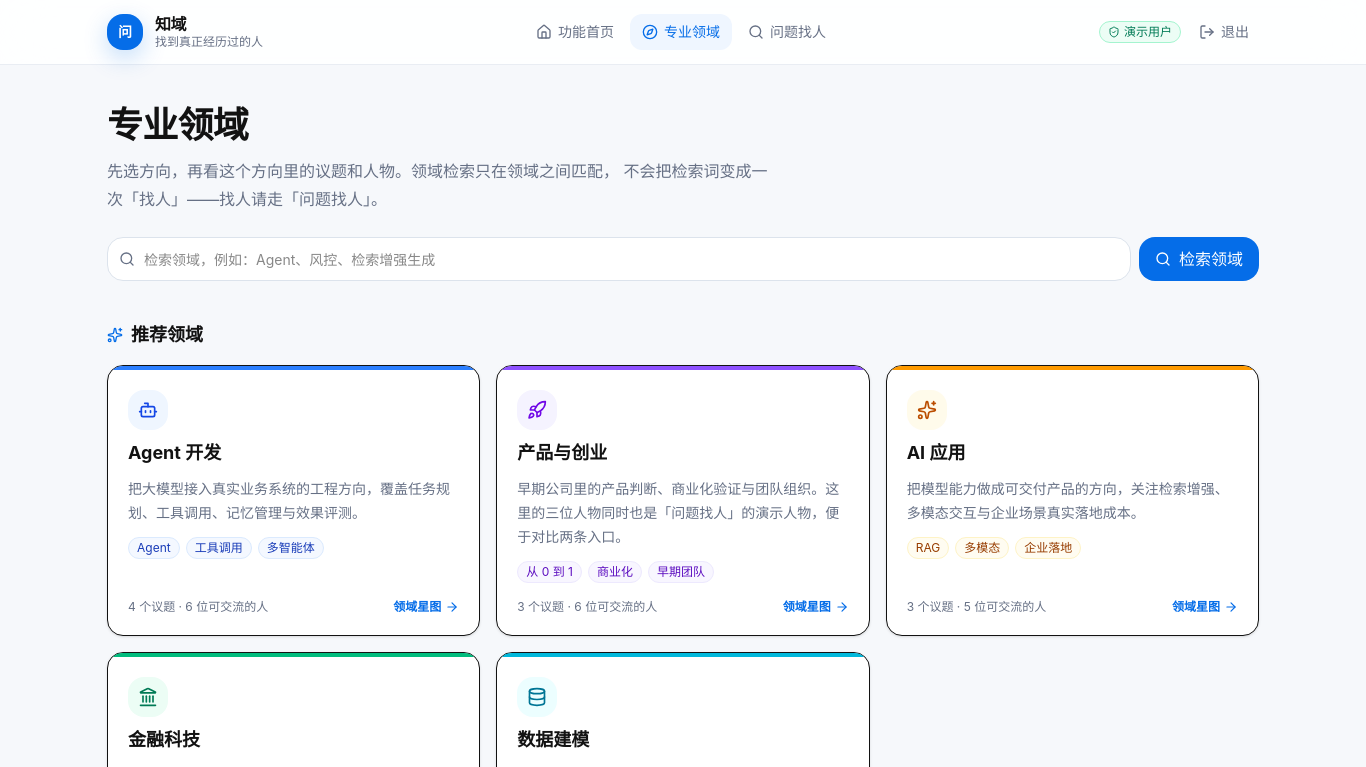
Test case: 专业领域目录 › 提交检索后展示领域结果，且结果仍然是领域
The image size is (1366, 767).
Expected: the heading "专业领域" is shown, [107,103,248,147]
Type "风控" into the search field named "检索专业领域".
click(619, 259); type("风控")  # box [107,237,1131,281]
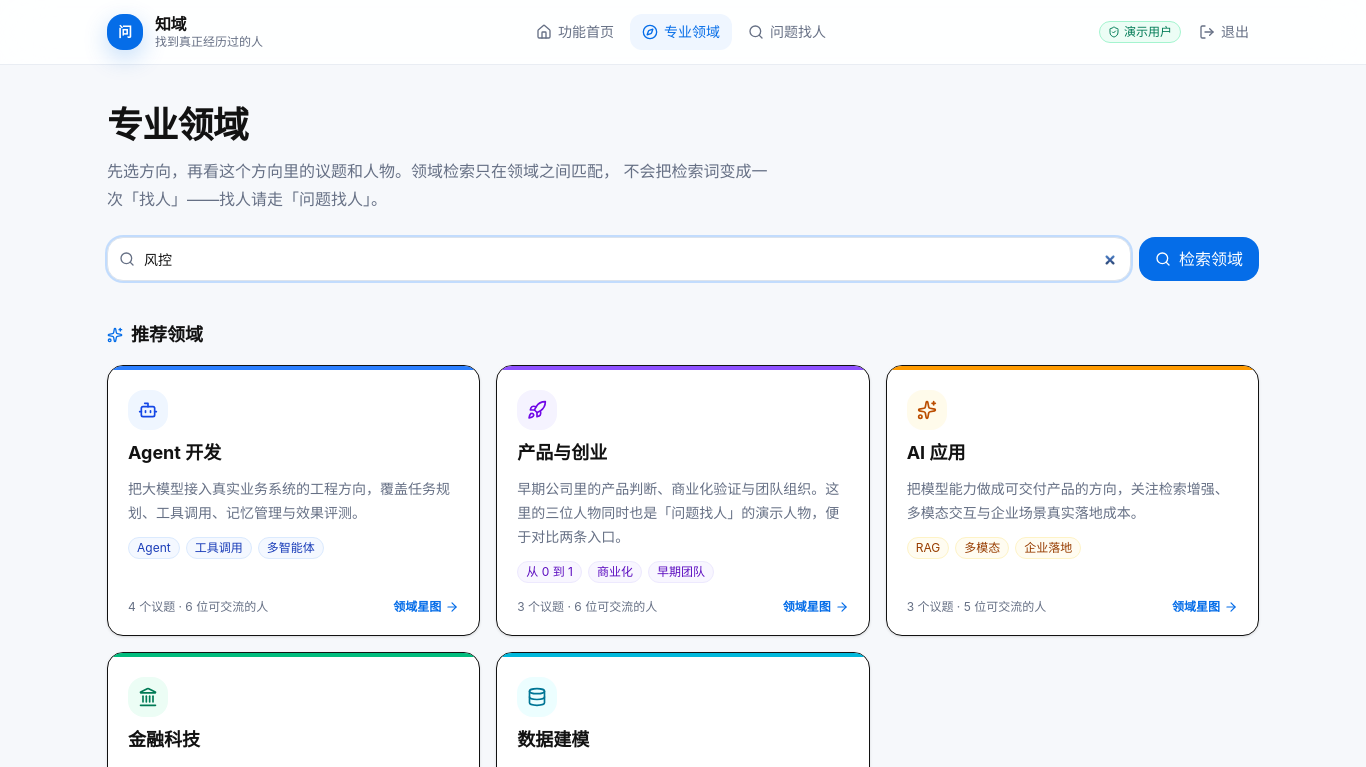
Click the button "检索领域".
click(1199, 259)  # box [1139,237,1259,281]
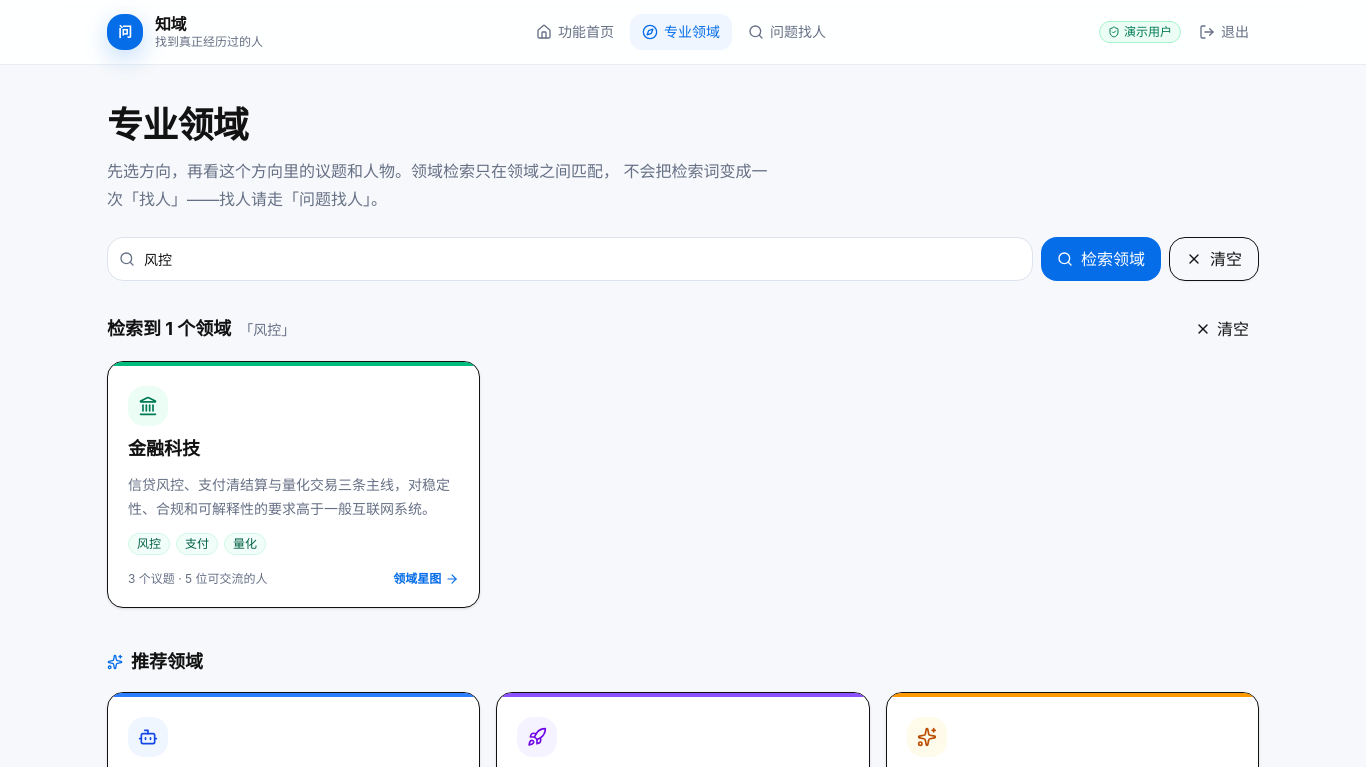
Expected: the link with aria-label "查看领域 金融科技" is shown, [107,361,480,608]
Result: the heading "检索到 1 个领域「风控」" is shown at [107,315,295,343]
